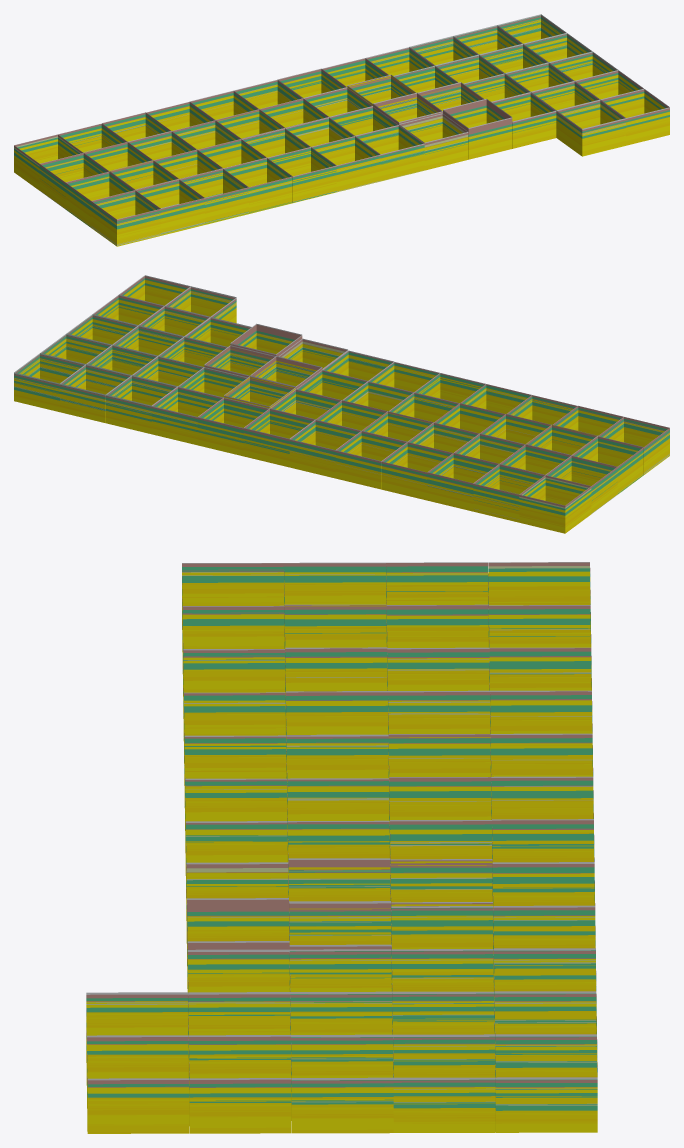
The picture shows the model from 3 angles, top to bottom: view 1: azimuth 30°, elevation 25°; view 2: azimuth 150°, elevation 25°; view 3: azimuth 270°, elevation 25°; orthographic projection. The views are drawn at different scales.
Visible parts, largest first — view 1: mesh; view 2: mesh; view 3: mesh.
Part boxes in pixels (x1,y1,x2,y2): mesh: [14, 14, 669, 246]; mesh: [14, 275, 669, 533]; mesh: [86, 562, 597, 1133].
Size of what is drawn, in the model's own units: 1964 by 112 by 820.
